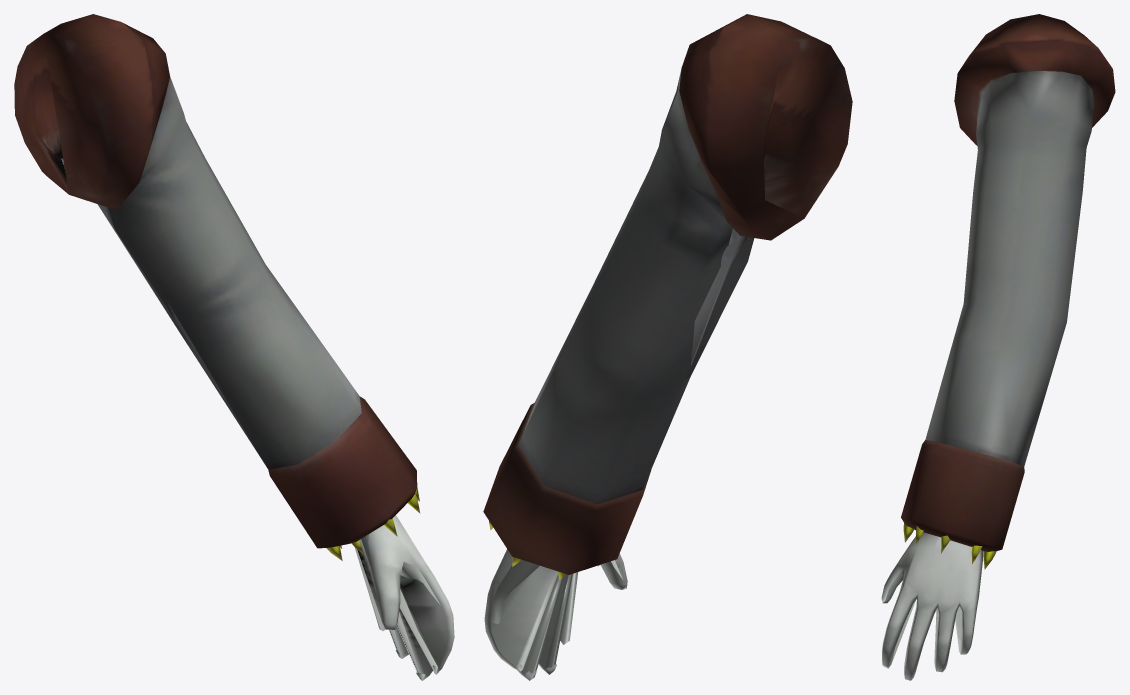
The model's file is left_arm-9_astamon.blend.obj.
The picture shows the model from 3 angles, left to right: view 1: azimuth 30°, elevation 25°; view 2: azimuth 150°, elevation 25°; view 3: azimuth 270°, elevation 25°; orthographic projection. The views are drawn at different scales.
Visible parts, largest first — view 1: left_arm-9_astamon.blend_nifid_4-matrix_Object03-lib.003; view 2: left_arm-9_astamon.blend_nifid_4-matrix_Object03-lib.003; view 3: left_arm-9_astamon.blend_nifid_4-matrix_Object03-lib.003.
Boxes of the visible parts, x1=… form: left_arm-9_astamon.blend_nifid_4-matrix_Object03-lib.003: x1=14, y1=14, x2=454, y2=680; left_arm-9_astamon.blend_nifid_4-matrix_Object03-lib.003: x1=483, y1=14, x2=852, y2=680; left_arm-9_astamon.blend_nifid_4-matrix_Object03-lib.003: x1=881, y1=14, x2=1115, y2=680.
Bounding box in the file's own units: 0.5523 × 1.08 × 0.4138.
Materials: 1 (1 with a texture image).
